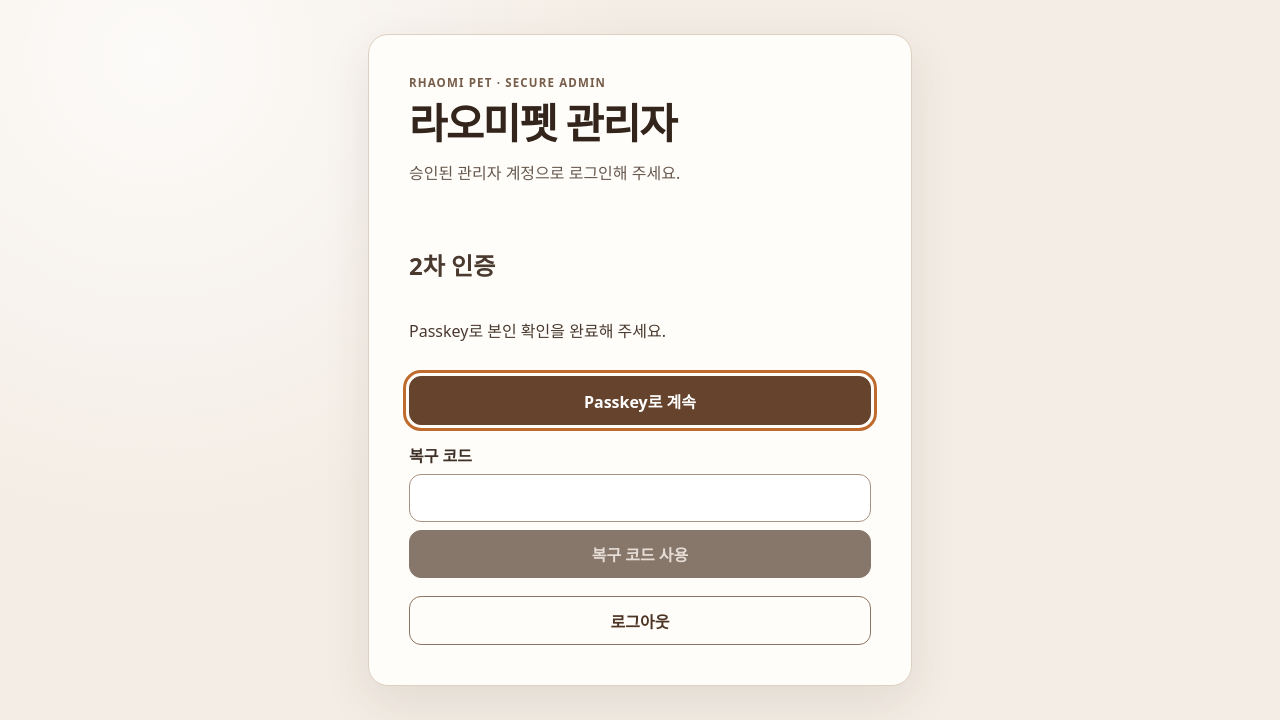
Test: AdminAuthShell › Passkey 성공 뒤 fresh CSRF가 준비될 때까지 dashboard를 열지 않는다
Click the button "Passkey로 계속" at (640, 401), box [409, 376, 871, 425]
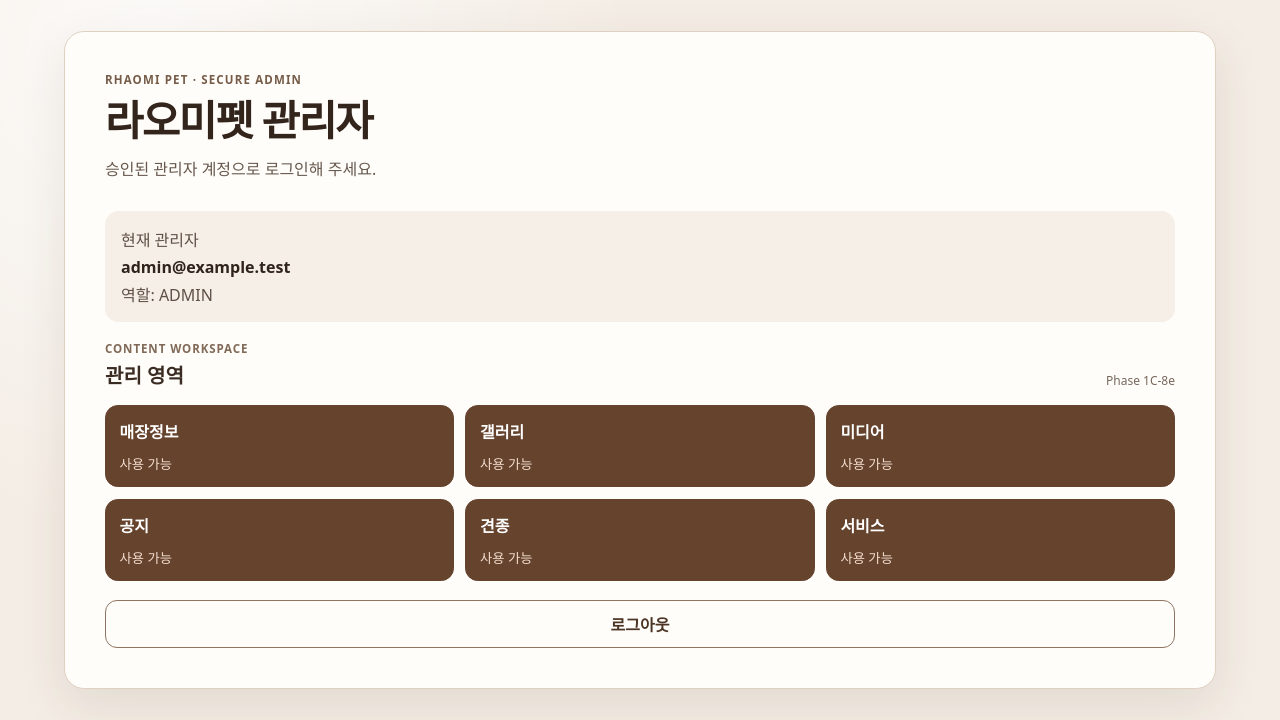
Check: the text "역할: ADMIN" is shown, box [121, 284, 213, 306]
